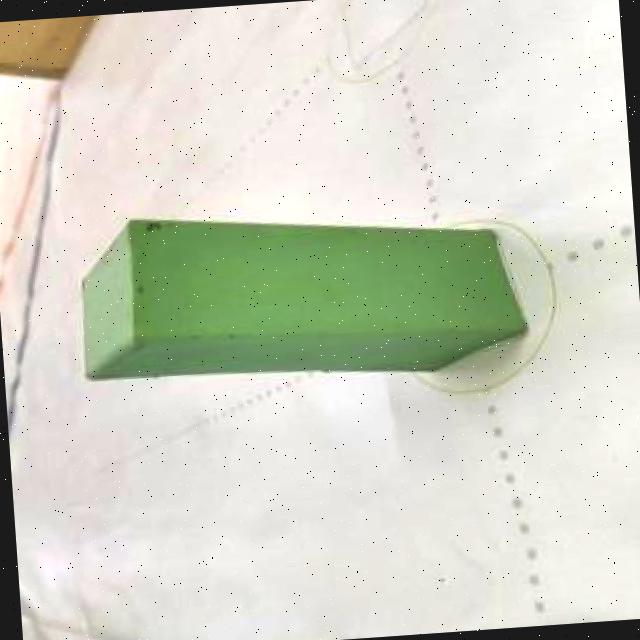greenbox: (66, 190, 532, 406)
